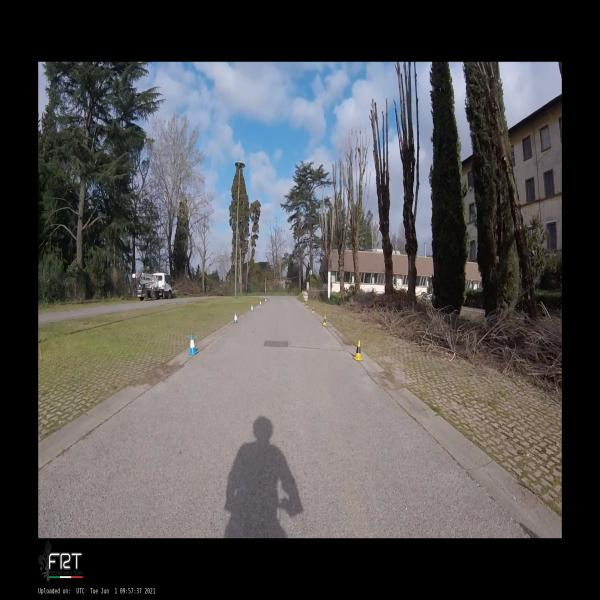blue_cone: (188, 334, 198, 355), (233, 312, 239, 323), (251, 304, 253, 312)
yellow_cone: (353, 340, 363, 361), (322, 315, 327, 326), (312, 306, 314, 313)
